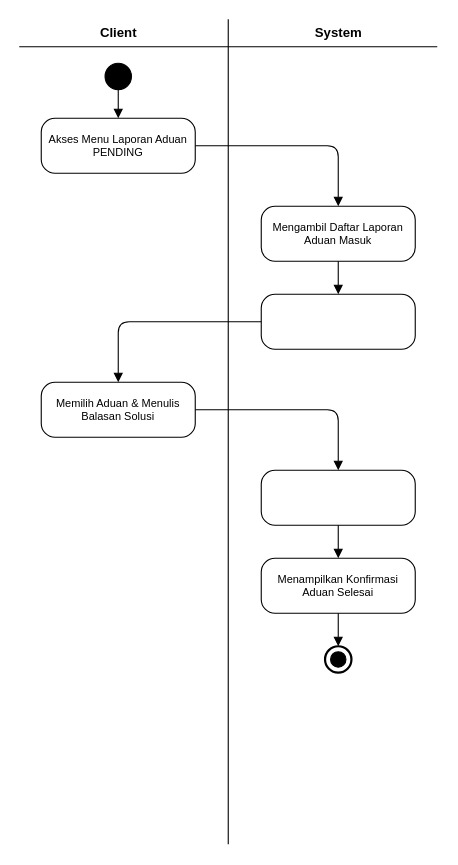
The diagram is 458 pixels wide and 865 high, and some of its shapes have lost their labels. The centre of each missing label's shape, as x and y in pixels:
Menampilkan Keluhan Pengguna: pixel 337 321
Menyimpan Reply & Mengubah Status RESOLVED: pixel 337 497
